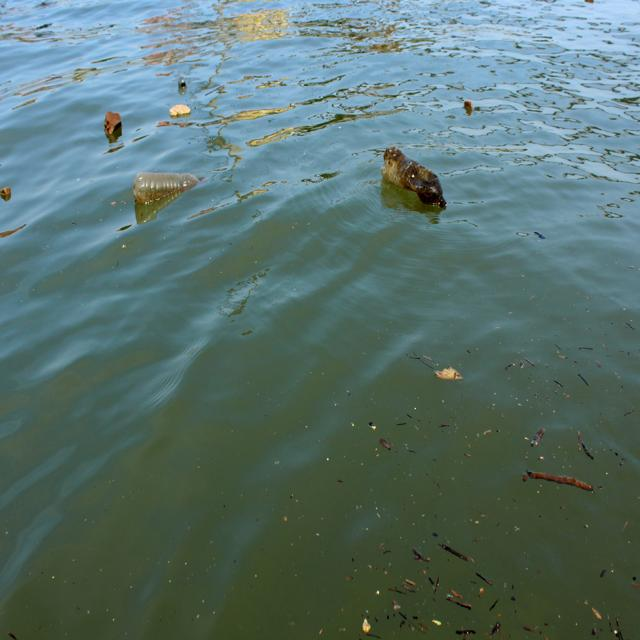bottle: (382, 146, 449, 211), (133, 169, 204, 207)
